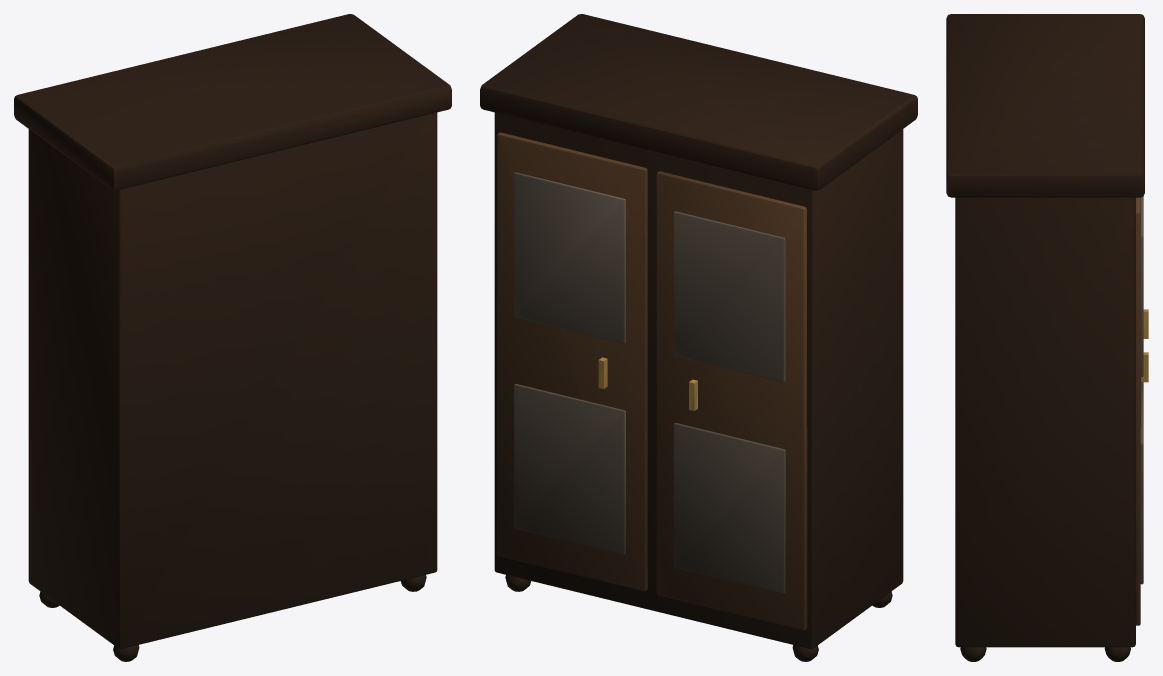
Rendered from Wardrobe.glb.
The picture shows the model from 3 angles, left to right: view 1: azimuth 30°, elevation 25°; view 2: azimuth 150°, elevation 25°; view 3: azimuth 270°, elevation 25°; orthographic projection. The views are drawn at different scales.
Parts seen in each view (by area): view 1: Wardrobe_wood_dark; view 2: Wardrobe_wood_dark, Wardrobe_wood_old, Wardrobe_wood; view 3: Wardrobe_wood_dark, Wardrobe_wood, Wardrobe_wood_old, Wardrobe_brass.
Part boxes in pixels (bbox=[...]): Wardrobe_wood_dark: bbox=[14, 14, 451, 661]; Wardrobe_wood_dark: bbox=[480, 14, 917, 661]; Wardrobe_wood_old: bbox=[514, 172, 785, 593]; Wardrobe_wood: bbox=[497, 132, 807, 630]; Wardrobe_wood_dark: bbox=[946, 14, 1144, 661]; Wardrobe_wood: bbox=[1136, 197, 1140, 625]; Wardrobe_wood_old: bbox=[1140, 196, 1143, 584]; Wardrobe_brass: bbox=[1141, 309, 1148, 382].
Bounding box in the file's own units: 6.4 × 9.15 × 3.36.
